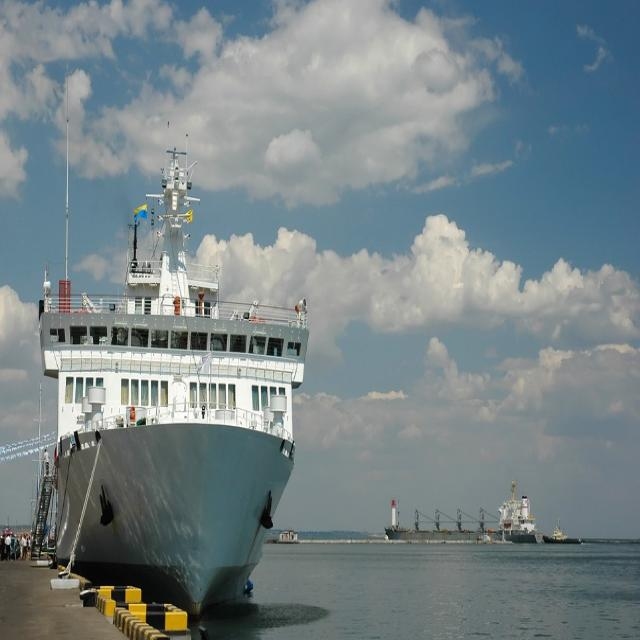cargoship: (381, 485, 541, 547)
houseboat: (542, 518, 578, 548)
passenger ship: (33, 150, 294, 604)
